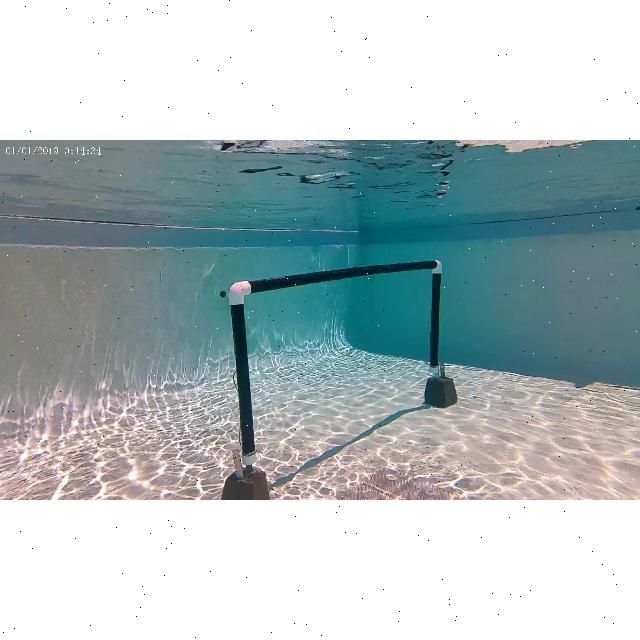prequal gate: (229, 259, 443, 465)
prequal gate leg l: (226, 278, 262, 472)
prequal gate leg r: (428, 260, 444, 378)
